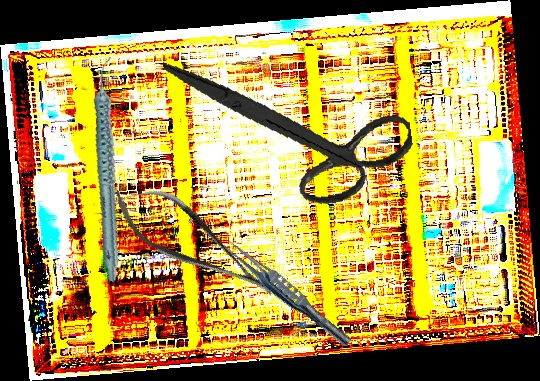Handpiece: (59, 55, 161, 283)
Iris Scissors: (162, 28, 420, 225)
Micro Scissor: (100, 166, 288, 320)
Tissue Forceps: (217, 234, 357, 351)
